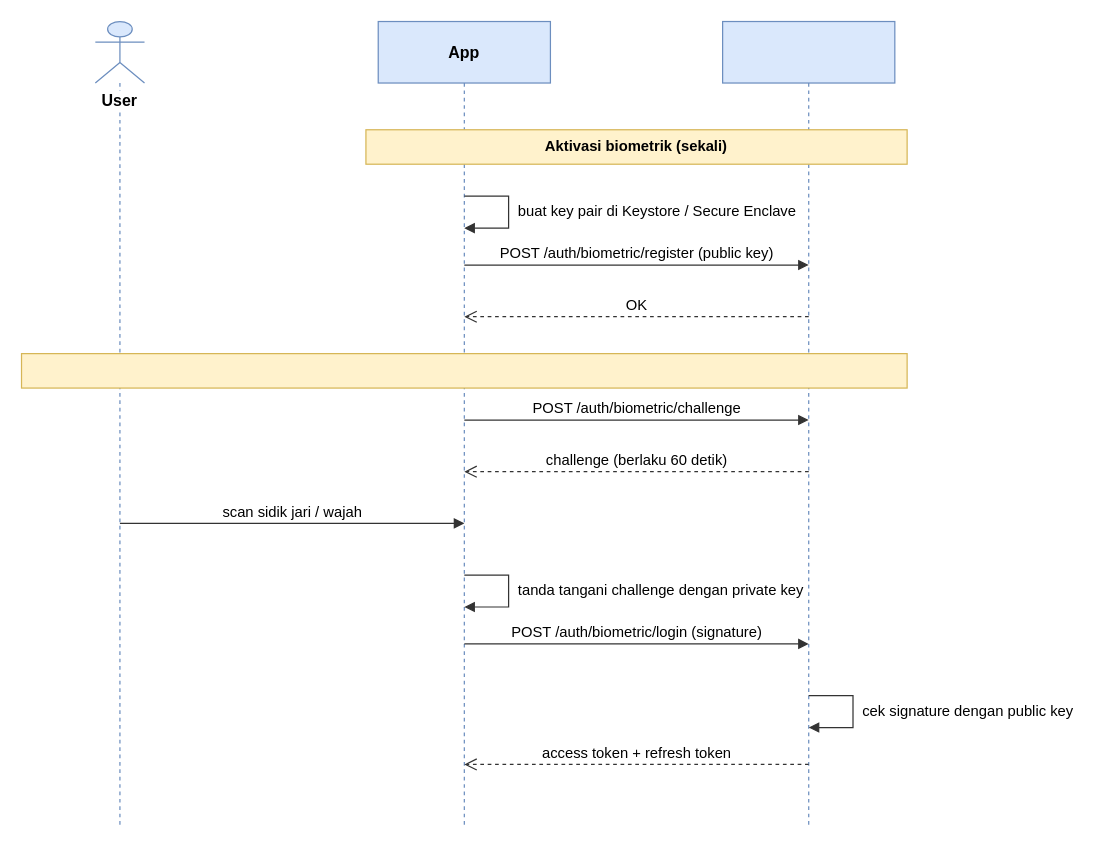
This 1095x850 diagram has some shape labels left out. Here are the shapes that lost their labels. From the top down, the centre of each, then its label:
[463,370]: Saat login
[808,424]: Backend
